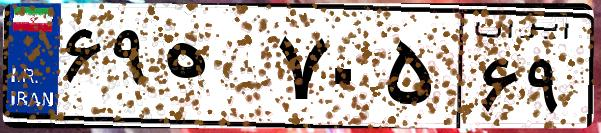0: (330, 28, 385, 110)
5: (385, 28, 445, 110)
6: (57, 26, 110, 100), (475, 38, 525, 113)
7: (270, 28, 330, 110)
9: (525, 38, 570, 115), (110, 28, 158, 98)
ه: (158, 20, 270, 120)
